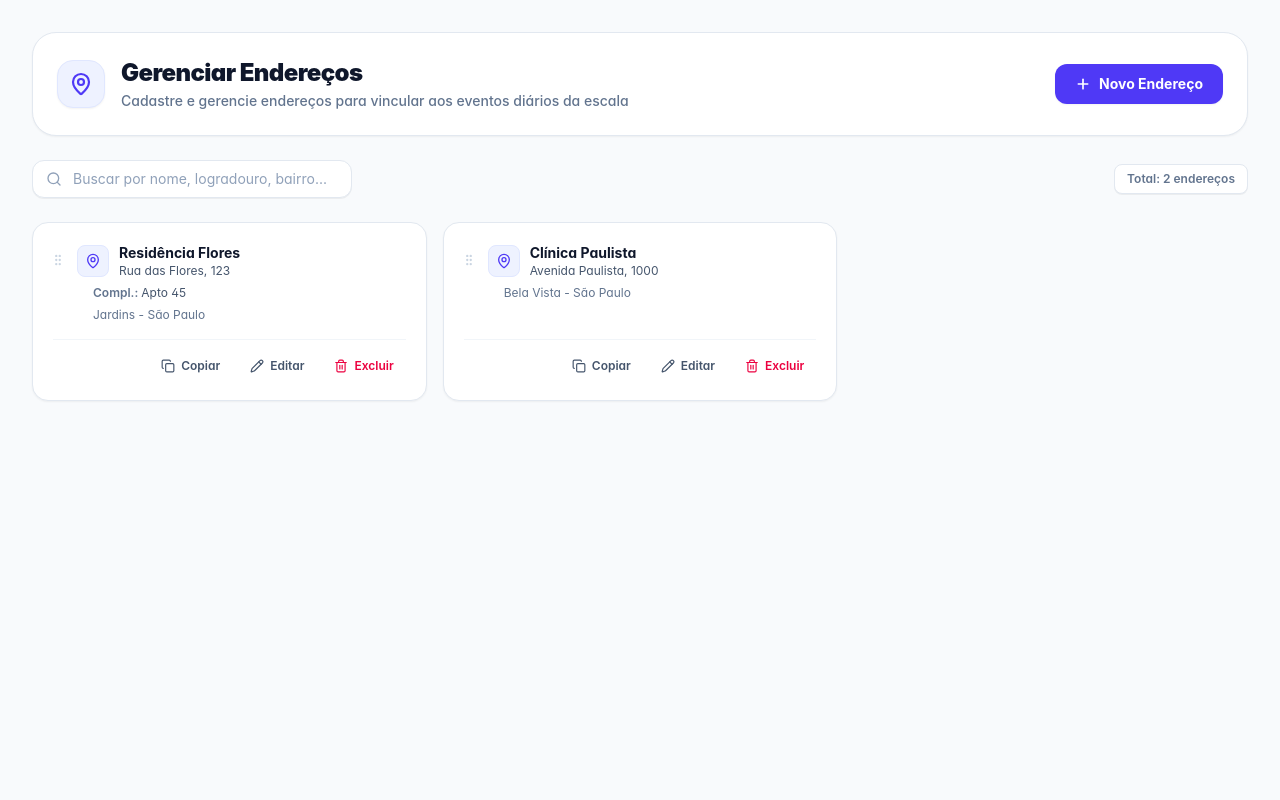
Scenario: AddressManagementView › edits an existing address, name included
The image size is (1280, 800).
Click the button with aria-label "Editar endereço Residência Flores" at (277, 366), box [238, 352, 316, 380]
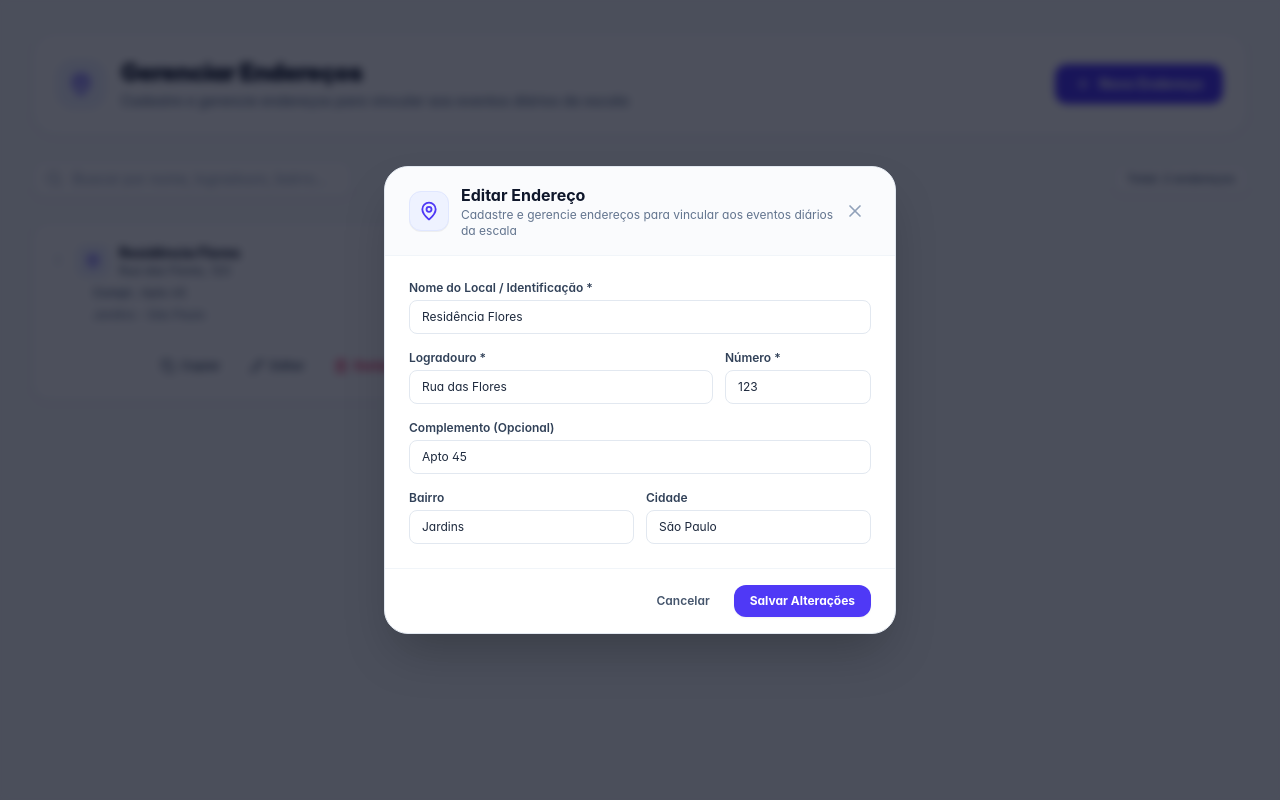
Now the field labelled "Nome do Local / Identificação *" holds "Residência Flores"
Now the field labelled "Logradouro *" holds "Rua das Flores", box [409, 370, 713, 404]
Replace the text in the field labelled "Nome do Local / Identificação *" with "Residência Orquídeas" at (640, 317), box [409, 300, 871, 334]
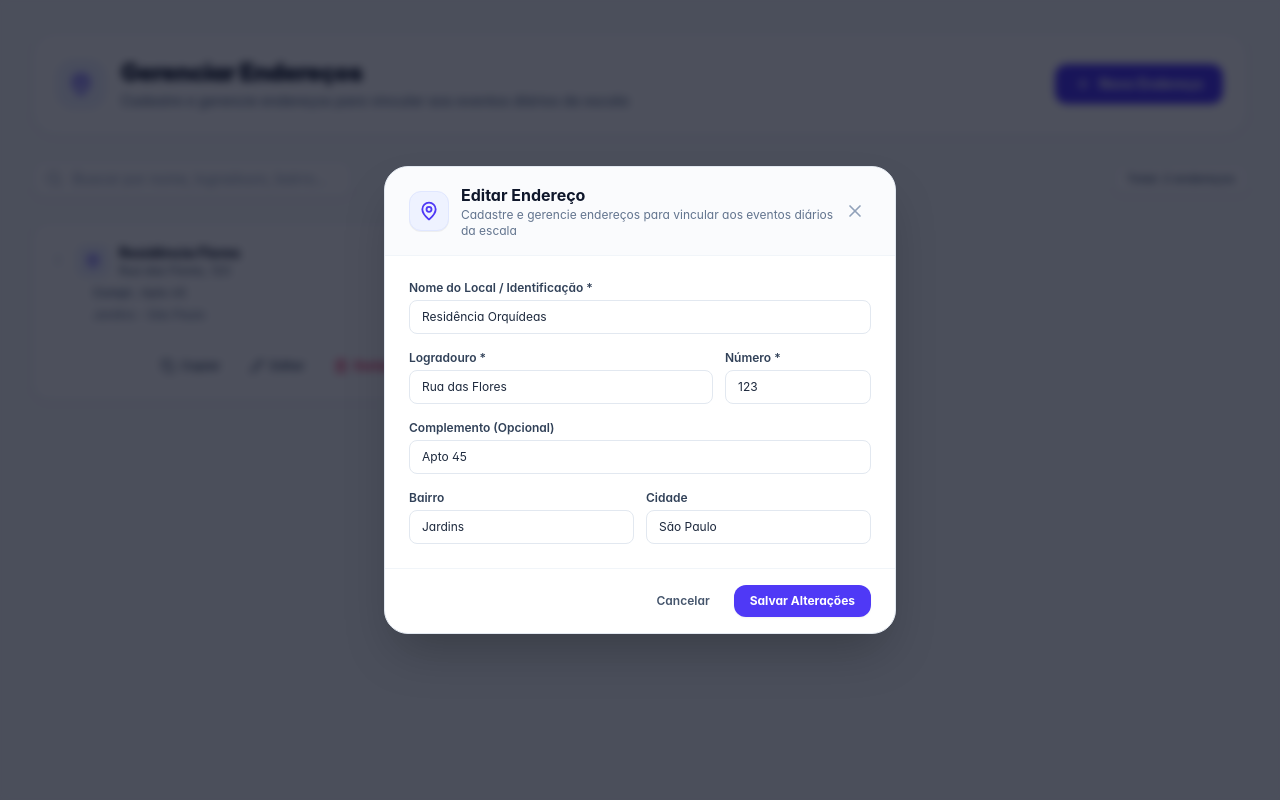
Replace the text in the field labelled "Logradouro *" with "Rua das Orquídeas" at (561, 387), box [409, 370, 713, 404]
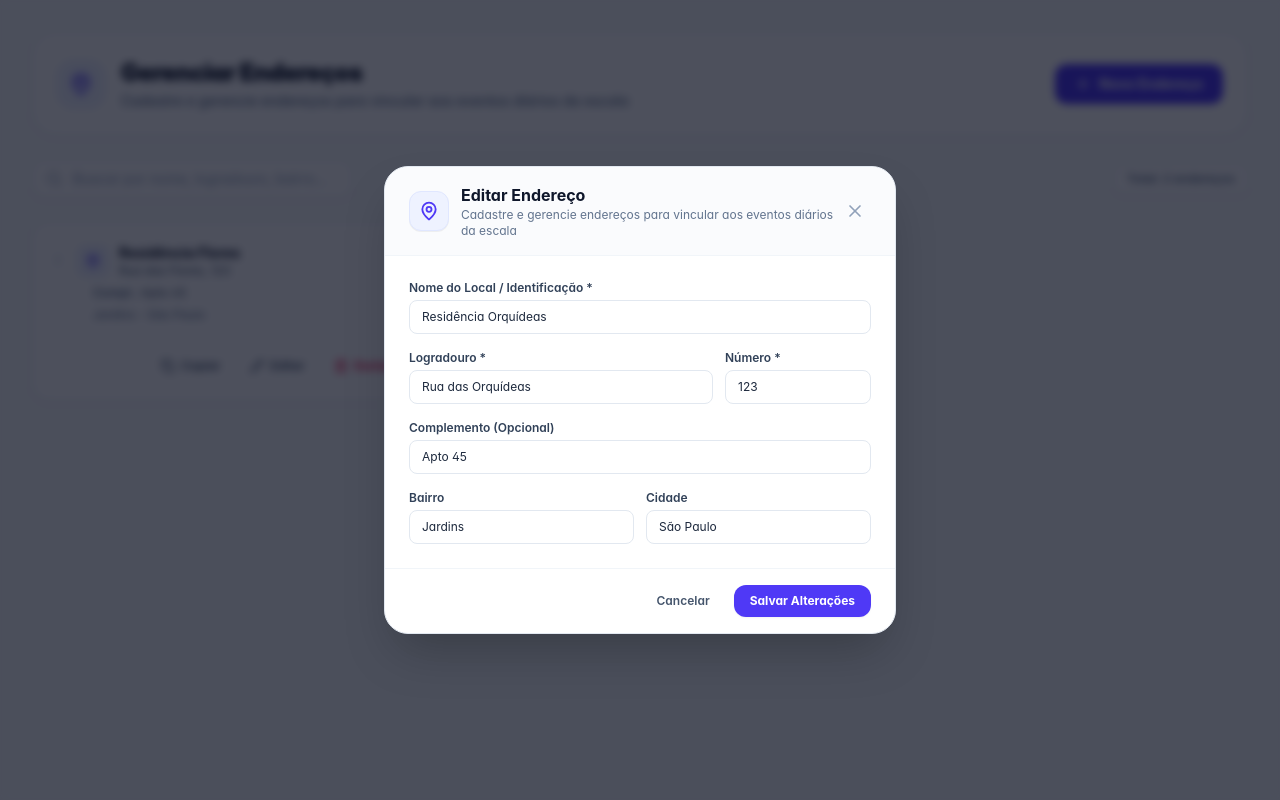
Click the button "Salvar Alterações" at (802, 601), box [734, 585, 871, 617]
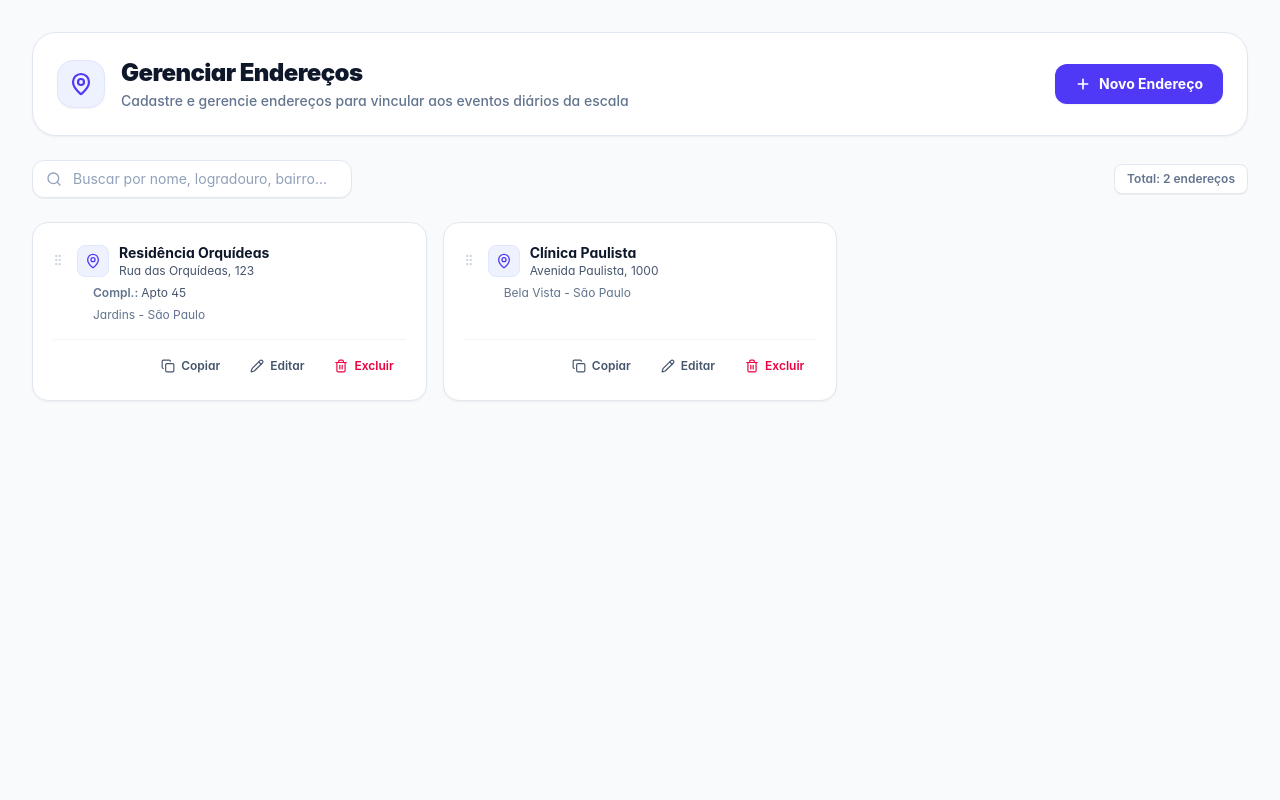
Now the heading "Residência Orquídeas" is shown, box [119, 244, 269, 261]
